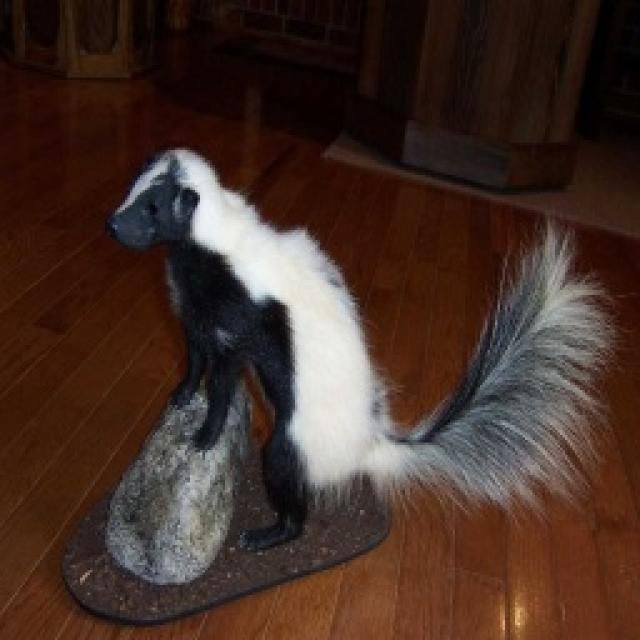not_pig: (115, 130, 640, 570)
